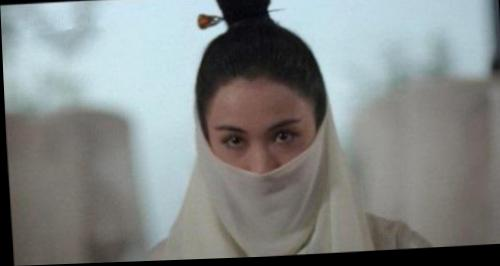WRONG: (205, 95, 319, 231)
